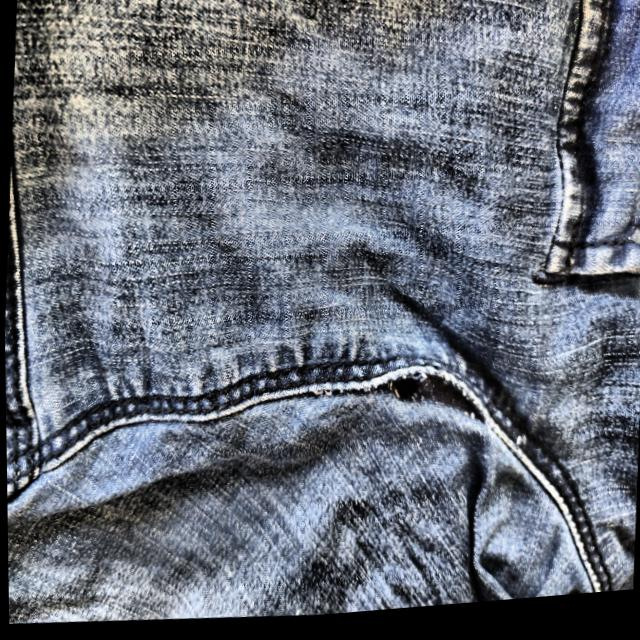seam: (351, 348, 498, 448)
